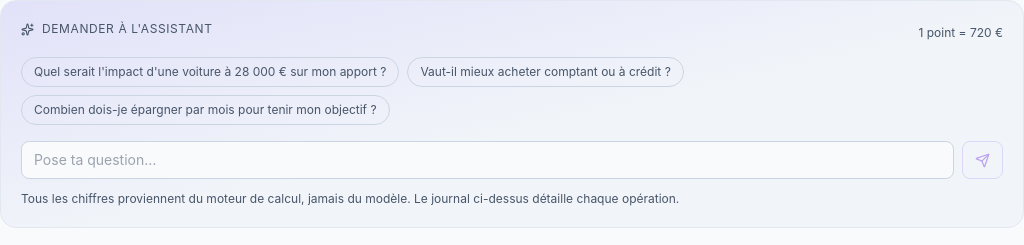
AssistantHorizon › s'efface en mode dégradé et renvoie vers les formulaires
The width and height of the screenshot is (1024, 245).
Click the button "Combien dois-je épargner par mois pour tenir mon objectif ?": click(205, 110) [21, 95, 390, 125]
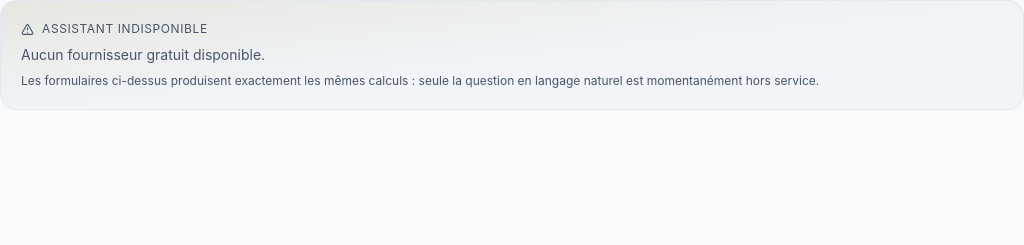
Check: the text "Assistant indisponible" is shown, box [42, 21, 208, 37]
Check: the text "mêmes calculs" is shown, box [21, 73, 819, 88]
